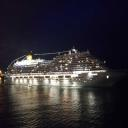cruises: (4, 46, 128, 89)
